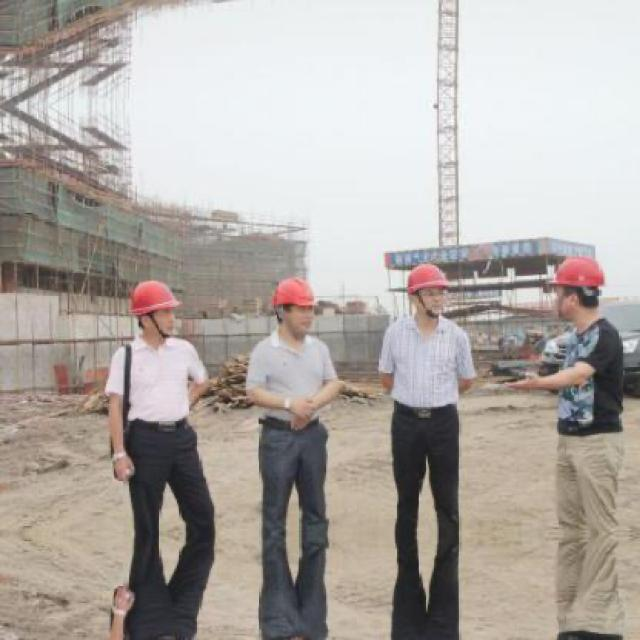con casco: (103, 278, 218, 349), (261, 265, 353, 342), (388, 258, 485, 324), (546, 253, 606, 349)
